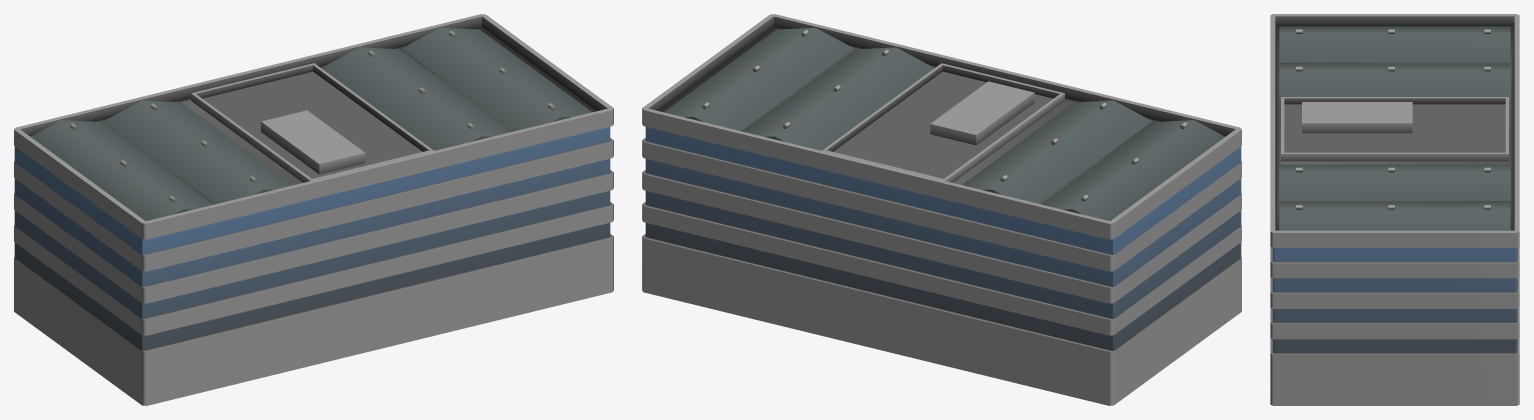
The model's file is buildings-industrial-industrialbuilding_v1.glb.
3 views of the same model, side by side, from view 1: azimuth 30°, elevation 25°; view 2: azimuth 150°, elevation 25°; view 3: azimuth 270°, elevation 25° (orthographic). The views are drawn at different scales.
Parts seen in each view (by area): view 1: IndustrialBuilding_v1_base, IndustrialBuilding_v1_windowRefl; view 2: IndustrialBuilding_v1_base, IndustrialBuilding_v1_windowRefl; view 3: IndustrialBuilding_v1_base, IndustrialBuilding_v1_windowRefl.
Part boxes in pixels (left/top/right/bottom): IndustrialBuilding_v1_base: left=14, top=14, right=613, bottom=405; IndustrialBuilding_v1_windowRefl: left=14, top=127, right=610, bottom=350; IndustrialBuilding_v1_base: left=642, top=14, right=1241, bottom=405; IndustrialBuilding_v1_windowRefl: left=645, top=127, right=1241, bottom=350; IndustrialBuilding_v1_base: left=1270, top=14, right=1519, bottom=405; IndustrialBuilding_v1_windowRefl: left=1273, top=248, right=1516, bottom=353.
Size of the model in its own units: 48.38 by 18.37 by 23.32.
